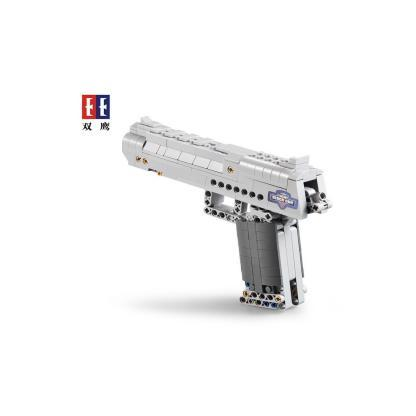Pistol: (74, 99, 357, 322)
